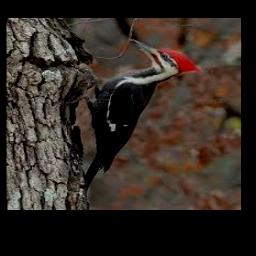Woodpecker: (83, 39, 202, 198)
